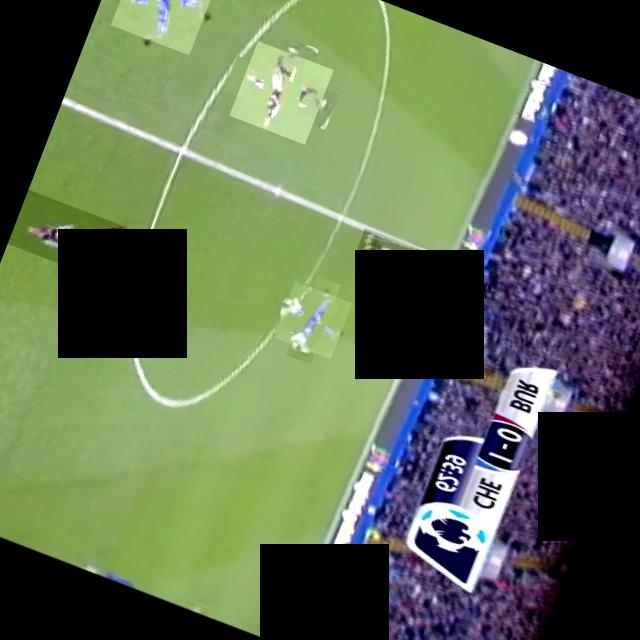soccer-player: (6, 190, 136, 286), (228, 40, 332, 144), (273, 281, 351, 359), (109, 0, 218, 55), (354, 228, 432, 278)
